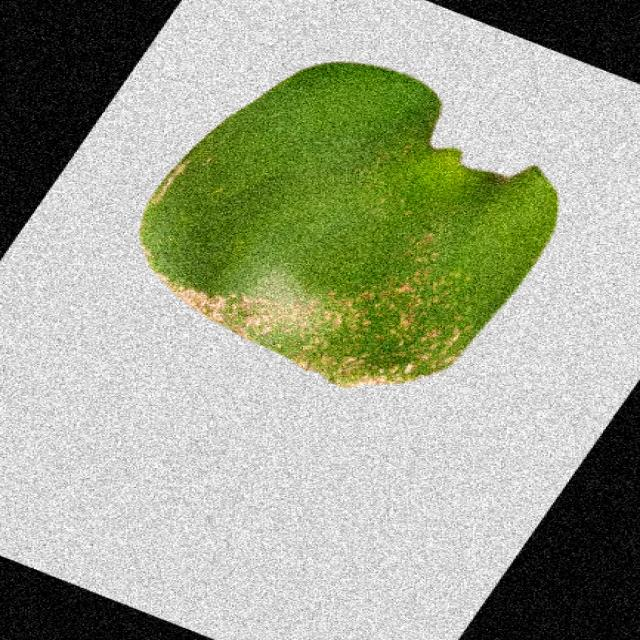daun berpenyakit bercak: (140, 63, 557, 388)
